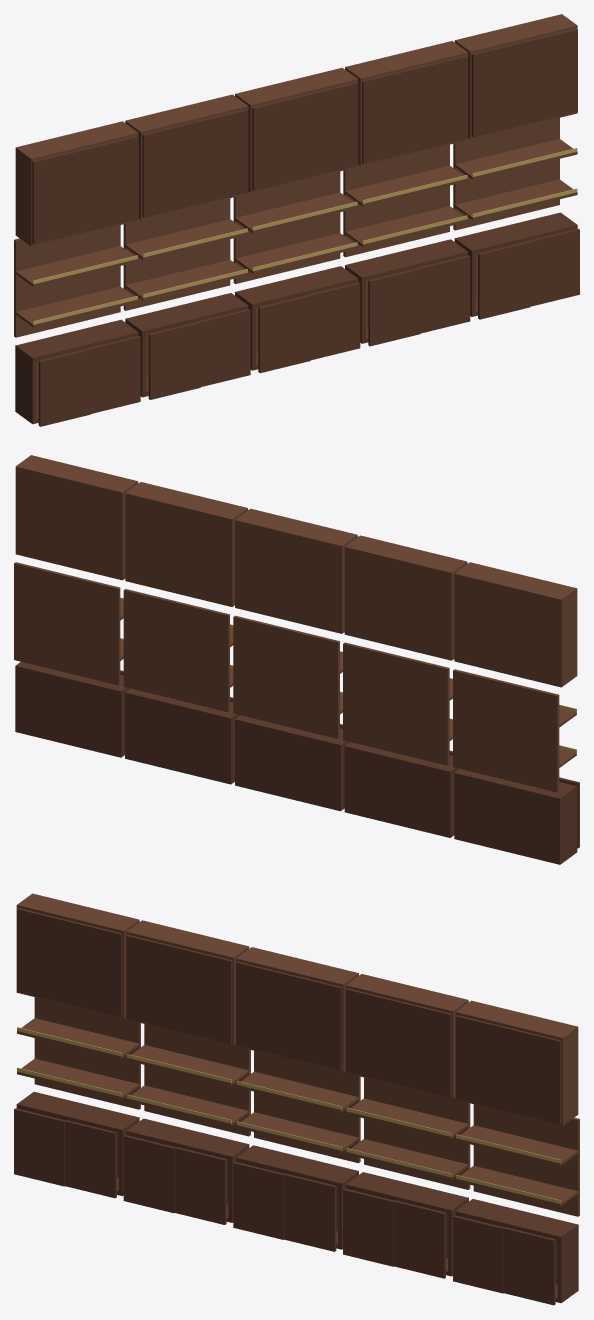
Rendered from bar_backbar.glb.
The picture shows the model from 3 angles, top to bottom: view 1: azimuth 30°, elevation 25°; view 2: azimuth 150°, elevation 25°; view 3: azimuth 330°, elevation 25°; orthographic projection.
Visible parts, largest first — view 1: bottle_rack_bay_1_back, bottle_rack_bay_3_back, bottle_rack_bay_2_back, bottle_rack_bay_5_back, bottle_rack_bay_4_back, back_cabinet_1_left_panel, back_cabinet_5_left_panel, back_cabinet_4_left_panel, back_cabinet_2_left_panel, back_cabinet_3_left_panel, back_cabinet_5_right_panel, back_cabinet_2_right_panel (+33 smaller); view 2: upper_cabinet_shell_1, upper_cabinet_shell_5, upper_cabinet_shell_2, upper_cabinet_shell_3, upper_cabinet_shell_4, bottle_rack_bay_1_back, bottle_rack_bay_2_back, bottle_rack_bay_4_back, bottle_rack_bay_3_back, bottle_rack_bay_5_back, rear_carcass_1, rear_carcass_2 (+3 smaller); view 3: bottle_rack_bay_5_back, bottle_rack_bay_2_back, bottle_rack_bay_4_back, bottle_rack_bay_1_back, bottle_rack_bay_3_back, back_cabinet_2_right_panel, back_cabinet_5_right_panel, back_cabinet_4_right_panel, back_cabinet_1_right_panel, back_cabinet_3_right_panel, back_cabinet_4_left_panel, back_cabinet_2_left_panel (+33 smaller).
Part boxes in pixels (left/top/right/bottom): bottle_rack_bay_1_back: left=14, top=225, right=120, bottom=337; bottle_rack_bay_3_back: left=233, top=171, right=340, bottom=283; bottle_rack_bay_2_back: left=123, top=198, right=230, bottom=310; bottle_rack_bay_5_back: left=453, top=118, right=559, bottom=230; bottle_rack_bay_4_back: left=343, top=144, right=449, bottom=257; back_cabinet_1_left_panel: left=32, top=148, right=86, bottom=244; back_cabinet_5_left_panel: left=471, top=41, right=525, bottom=137; back_cabinet_4_left_panel: left=362, top=68, right=415, bottom=164; back_cabinet_2_left_panel: left=142, top=122, right=195, bottom=217; back_cabinet_3_left_panel: left=252, top=95, right=305, bottom=191; back_cabinet_5_right_panel: left=524, top=28, right=577, bottom=124; back_cabinet_2_right_panel: left=195, top=109, right=248, bottom=205; upper_cabinet_shell_1: left=454, top=562, right=577, bottom=687; upper_cabinet_shell_5: left=15, top=455, right=138, bottom=580; upper_cabinet_shell_2: left=344, top=535, right=467, bottom=660; upper_cabinet_shell_3: left=235, top=508, right=357, bottom=633; upper_cabinet_shell_4: left=125, top=482, right=247, bottom=606; bottle_rack_bay_1_back: left=453, top=669, right=559, bottom=792; bottle_rack_bay_2_back: left=343, top=642, right=449, bottom=765; bottle_rack_bay_4_back: left=123, top=589, right=229, bottom=711; bottle_rack_bay_3_back: left=233, top=615, right=339, bottom=738; bottle_rack_bay_5_back: left=14, top=562, right=120, bottom=685; rear_carcass_1: left=454, top=769, right=577, bottom=864; rear_carcass_2: left=344, top=742, right=459, bottom=837; bottle_rack_bay_5_back: left=473, top=1104, right=579, bottom=1216; bottle_rack_bay_2_back: left=144, top=1024, right=250, bottom=1136; bottle_rack_bay_4_back: left=364, top=1077, right=470, bottom=1189; bottle_rack_bay_1_back: left=34, top=997, right=140, bottom=1109; bottle_rack_bay_3_back: left=254, top=1050, right=360, bottom=1163; back_cabinet_2_right_panel: left=178, top=947, right=232, bottom=1043; back_cabinet_5_right_panel: left=507, top=1028, right=561, bottom=1123; back_cabinet_4_right_panel: left=398, top=1001, right=451, bottom=1097; back_cabinet_1_right_panel: left=69, top=920, right=122, bottom=1016; back_cabinet_3_right_panel: left=288, top=974, right=341, bottom=1070; back_cabinet_4_left_panel: left=345, top=988, right=398, bottom=1084; back_cabinet_2_left_panel: left=126, top=935, right=179, bottom=1030.
Size of the model in its own units: 8.46 by 3.92 by 0.6575.
